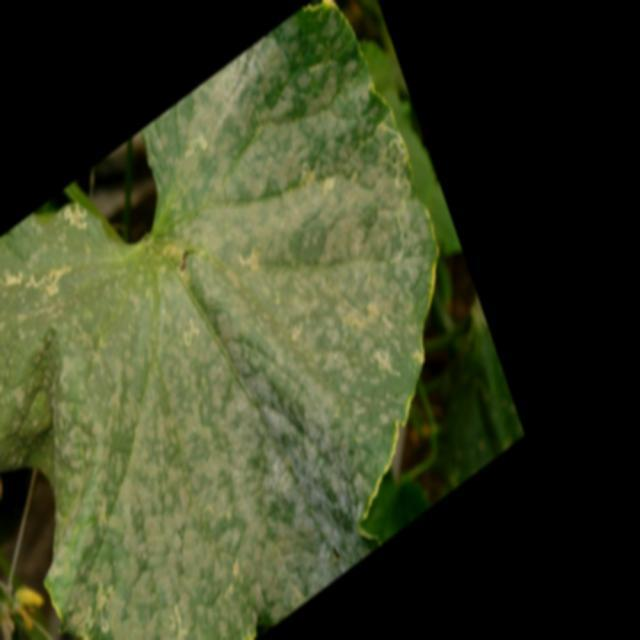Leaf_Mold: (1, 0, 457, 640)
